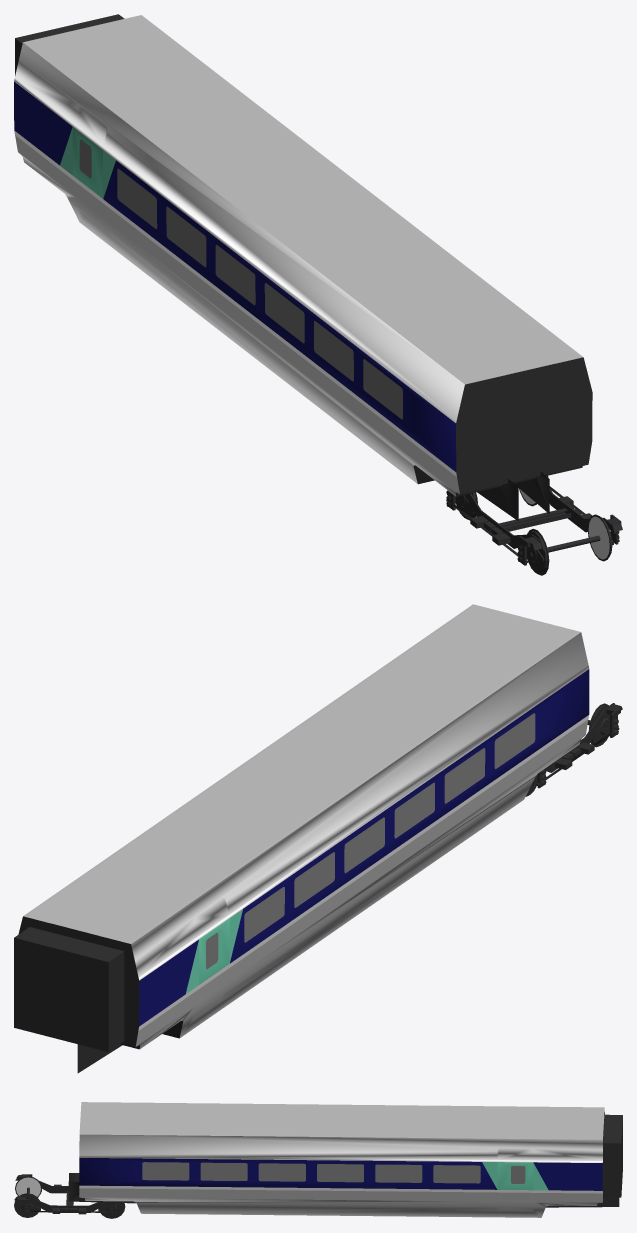
The model's file is TGVReseau_car4.gltf.
3 renders of one model, top to bottom at view 1: azimuth 30°, elevation 25°; view 2: azimuth 150°, elevation 25°; view 3: azimuth 270°, elevation 25°, orthographic. The views are drawn at different scales.
Visible parts, largest first — view 1: Group#9.003, Group#9.002, boogie.011, boogie.010; view 2: Group#9.003, Group#9.002, boogie.011; view 3: Group#9.002, Group#9.003, boogie.010, boogie.011.
Part boxes in pixels (x1=…): Group#9.003: x1=14, y1=14, x2=524, y2=521; Group#9.002: x1=15, y1=15, x2=592, y2=513; boogie.011: x1=446, y1=490, x2=599, y2=575; boogie.010: x1=499, y1=475, x2=622, y2=561; Group#9.003: x1=14, y1=618, x2=589, y2=1073; Group#9.002: x1=18, y1=604, x2=526, y2=1051; boogie.011: x1=525, y1=703, x2=622, y2=796; Group#9.002: x1=68, y1=1114, x2=622, y2=1217; Group#9.003: x1=69, y1=1102, x2=622, y2=1197; boogie.010: x1=14, y1=1187, x2=125, y2=1218; boogie.011: x1=15, y1=1174, x2=73, y2=1205.
Bounding box in the file's own units: 3.6 × 3.62 × 21.77.
